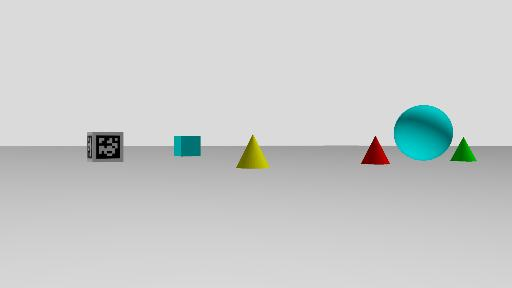green_cone: (449, 137, 477, 162)
red_cone: (360, 135, 391, 165)
yellow_cone: (235, 134, 271, 168)
